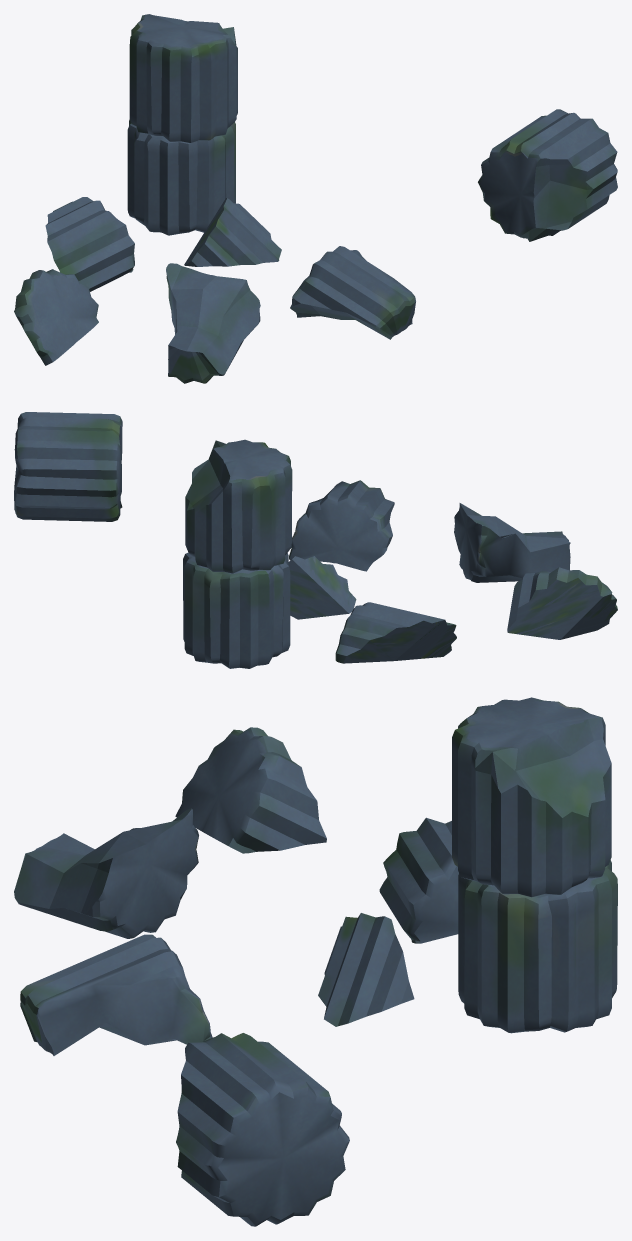
The model's file is wall_crumbe.obj.
The picture shows the model from 3 angles, top to bottom: view 1: azimuth 30°, elevation 25°; view 2: azimuth 150°, elevation 25°; view 3: azimuth 270°, elevation 25°; orthographic projection. The views are drawn at different scales.
Parts seen in each view (by area): view 1: Pillar4_Material.001_0; view 2: Pillar4_Material.001_0; view 3: Pillar4_Material.001_0.
Part boxes in pixels (bbox=[...]): Pillar4_Material.001_0: bbox=[14, 14, 617, 383]; Pillar4_Material.001_0: bbox=[14, 412, 617, 668]; Pillar4_Material.001_0: bbox=[14, 697, 617, 1226].
Bounding box in the file's own units: 3.25 × 1.04 × 1.94.
